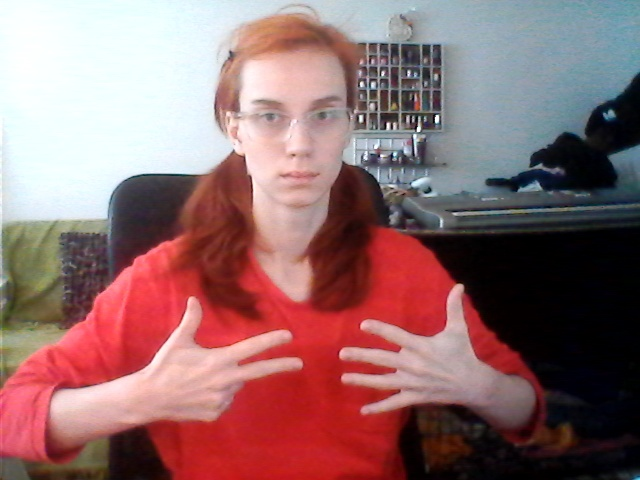osem: (165, 279, 487, 427)
